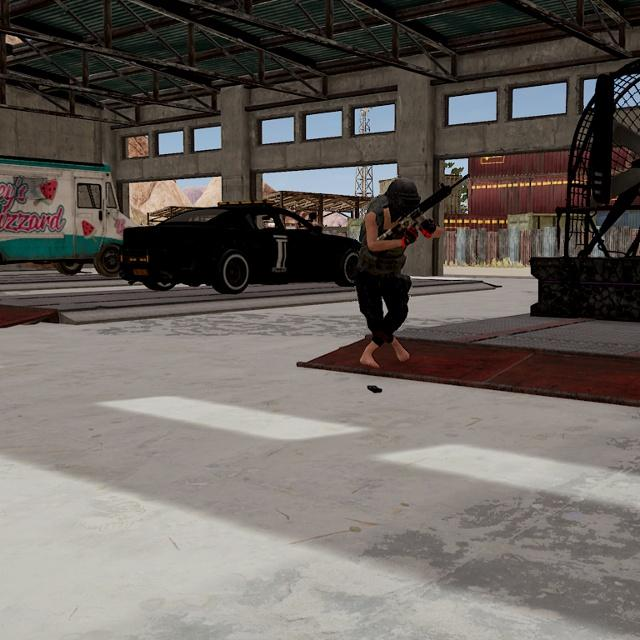head: (386, 178, 424, 221)
people: (348, 177, 434, 369)
